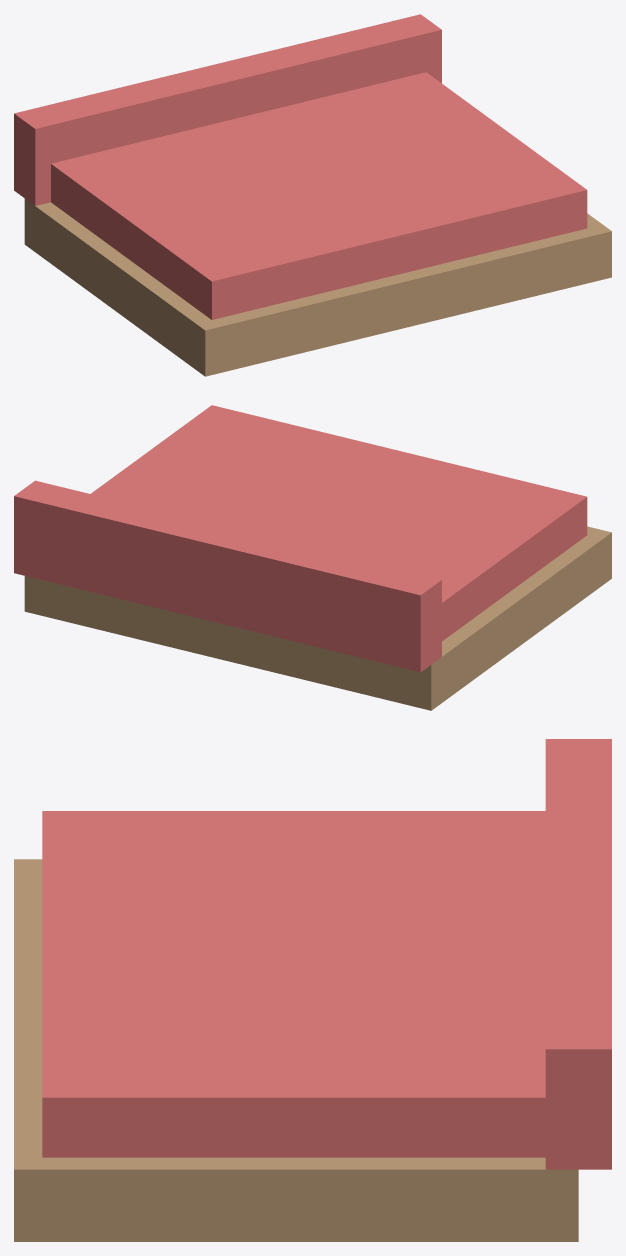
Rendered from Prop_Pet_AMF_Bed_V6.glb.
The picture shows the model from 3 angles, top to bottom: view 1: azimuth 30°, elevation 25°; view 2: azimuth 150°, elevation 25°; view 3: azimuth 270°, elevation 25°; orthographic projection. The views are drawn at different scales.
Visible parts, largest first — view 1: Prop_Pet_AMF_Bed_V6; view 2: Prop_Pet_AMF_Bed_V6; view 3: Prop_Pet_AMF_Bed_V6.
Part boxes in pixels (bbox=[...]): Prop_Pet_AMF_Bed_V6: bbox=[14, 14, 611, 376]; Prop_Pet_AMF_Bed_V6: bbox=[14, 405, 611, 710]; Prop_Pet_AMF_Bed_V6: bbox=[14, 739, 611, 1241].
Size of the model in its own units: 1.11 by 0.32 by 0.9.
